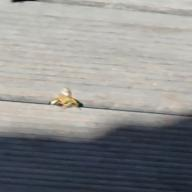Bee: (40, 87, 98, 116)
